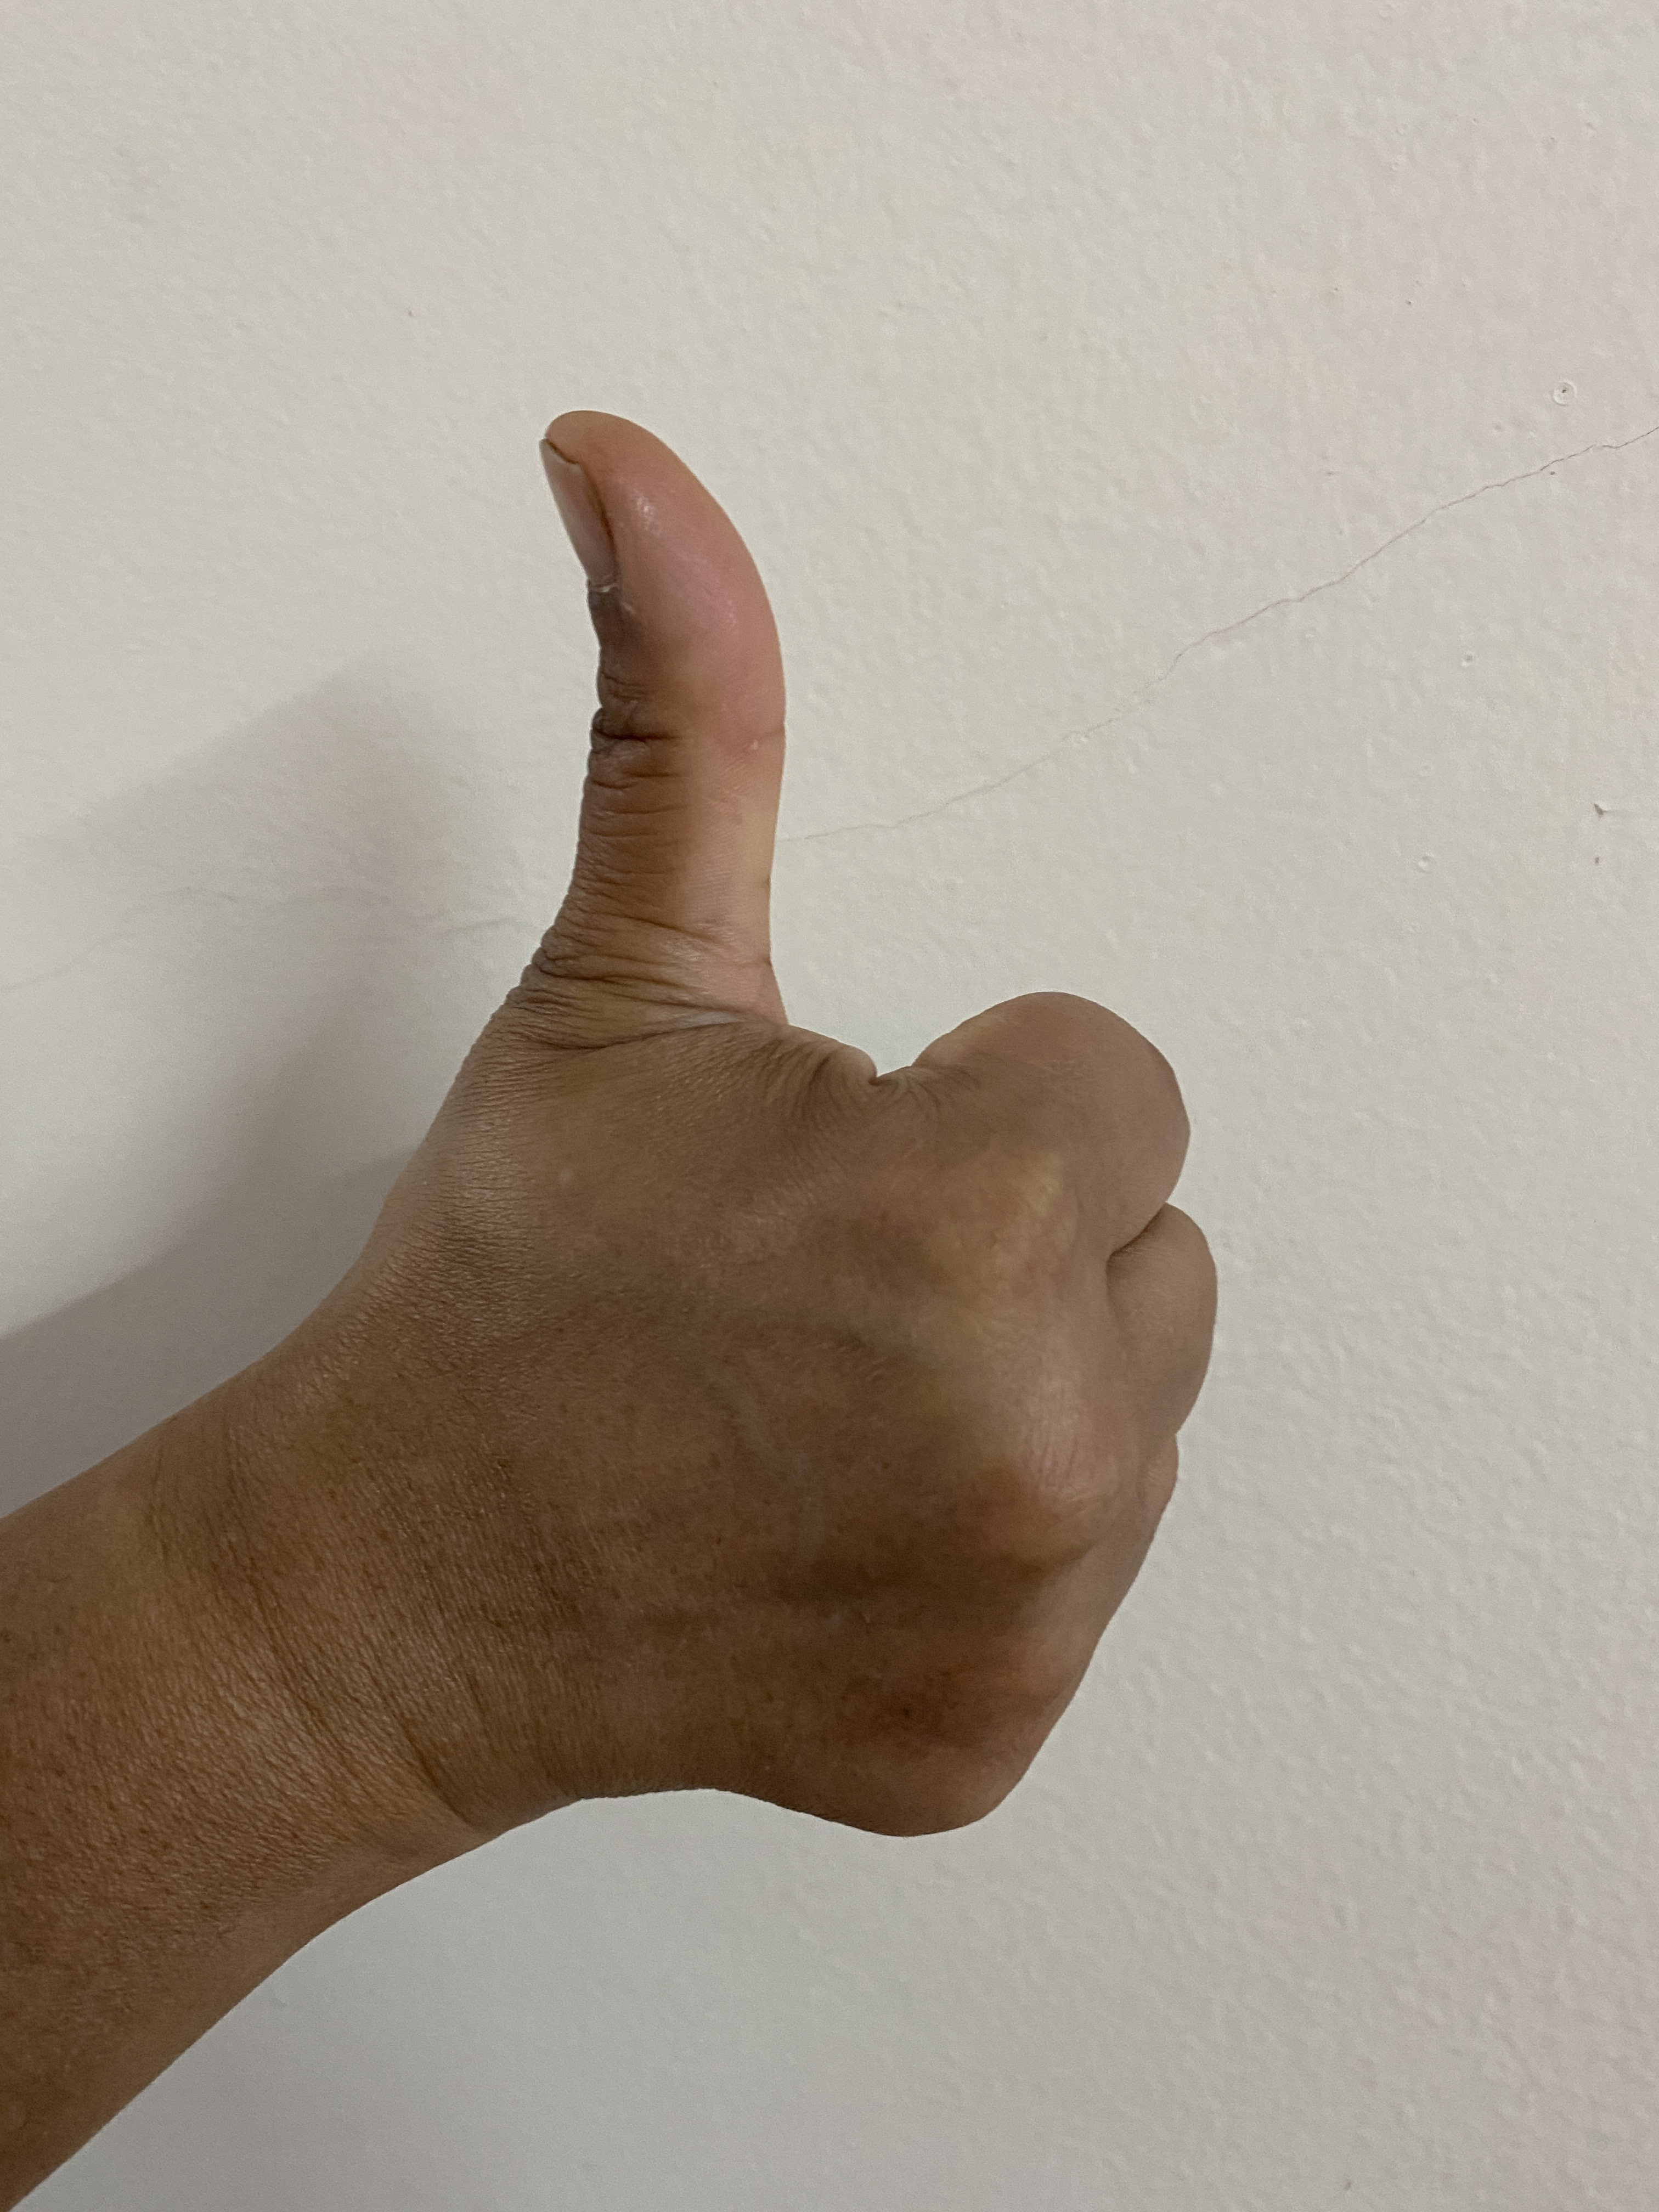up: (134, 319, 1523, 1975)
